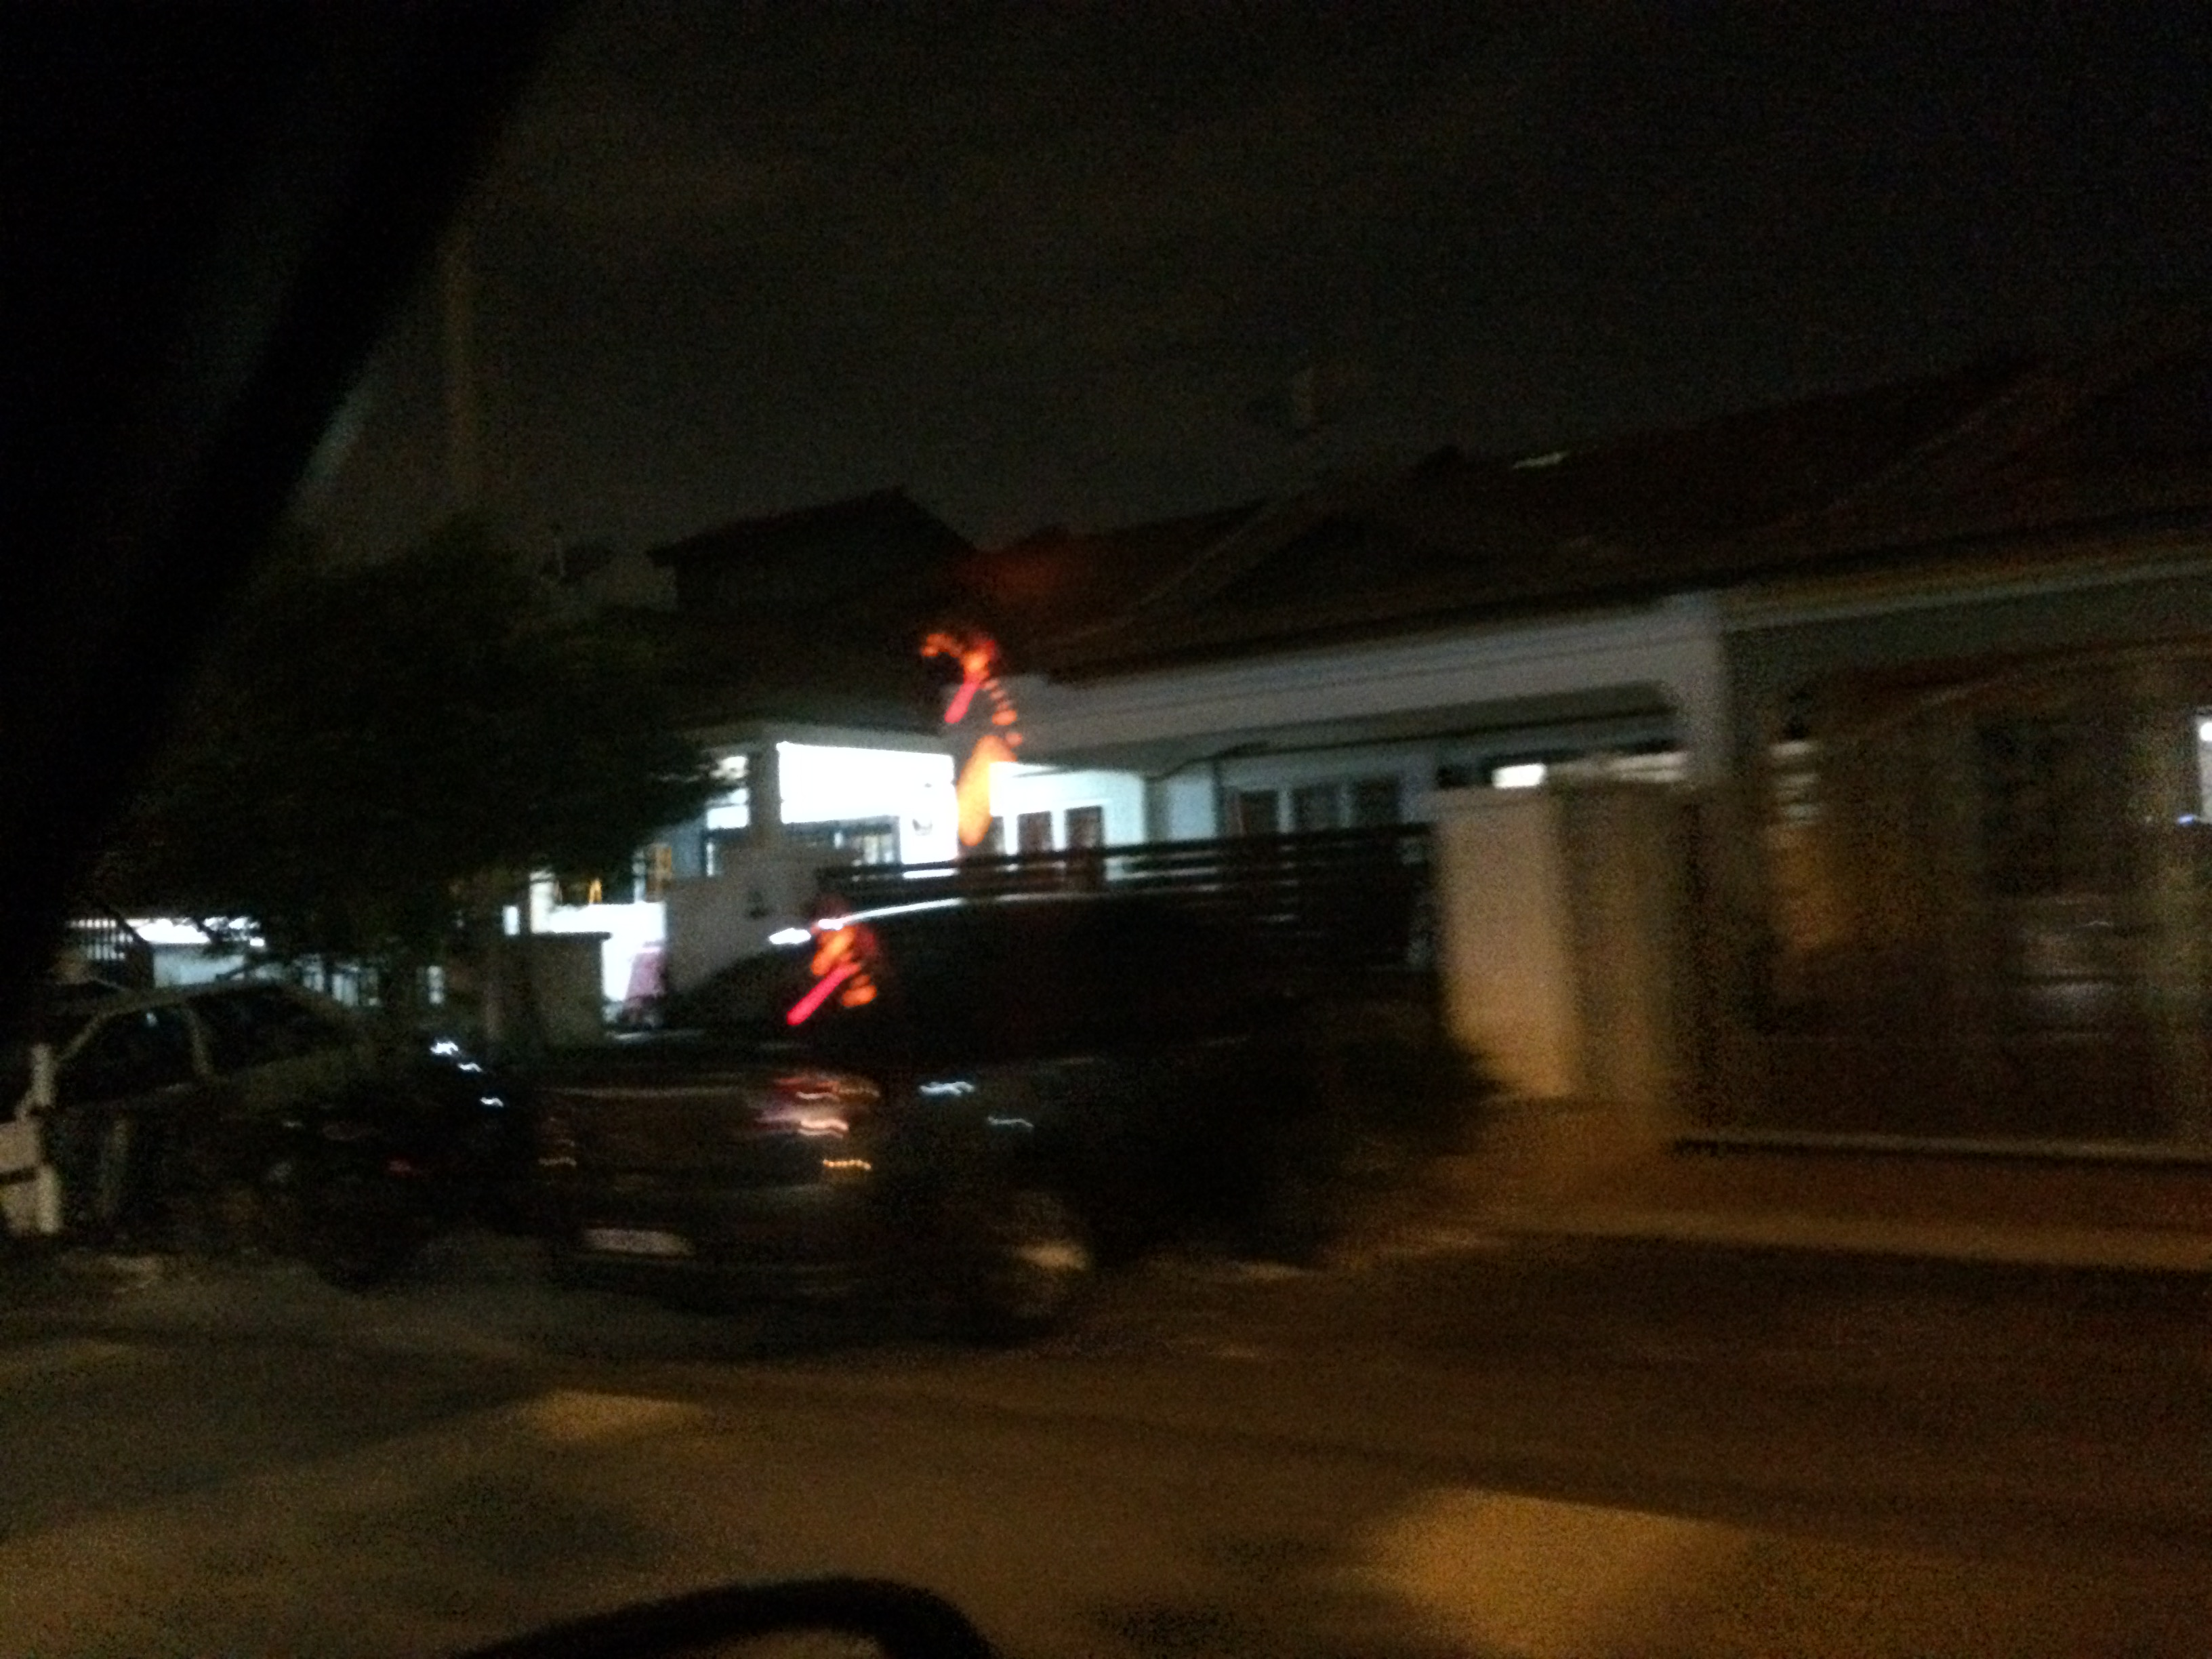car: (488, 847, 1432, 1375)
